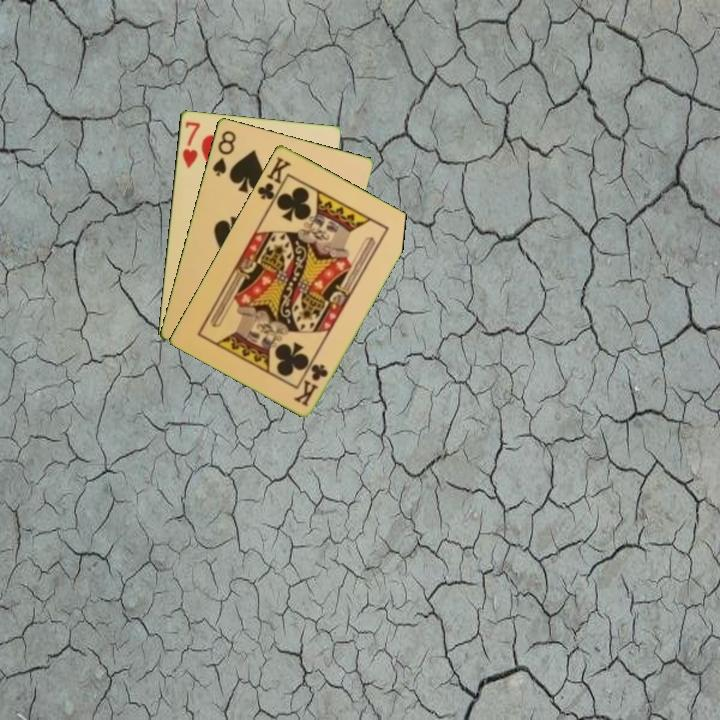7h: (178, 118, 203, 170)
8s: (209, 126, 239, 179)
Kc: (253, 153, 294, 208), (290, 360, 331, 409)
